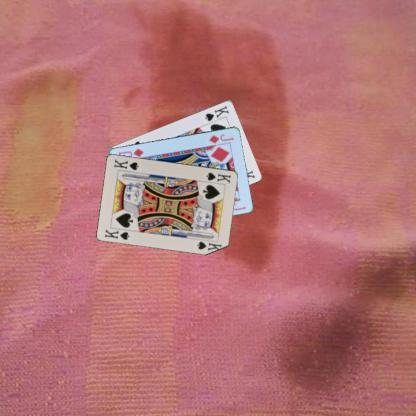Jd: (206, 131, 235, 145)
Ks: (202, 103, 231, 122), (102, 226, 131, 241), (204, 170, 232, 184)
